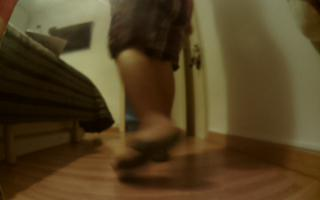person: (105, 1, 208, 172)
